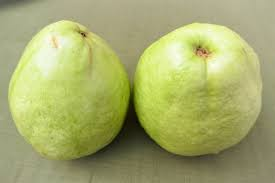guava: (134, 22, 264, 162), (10, 19, 129, 161)
